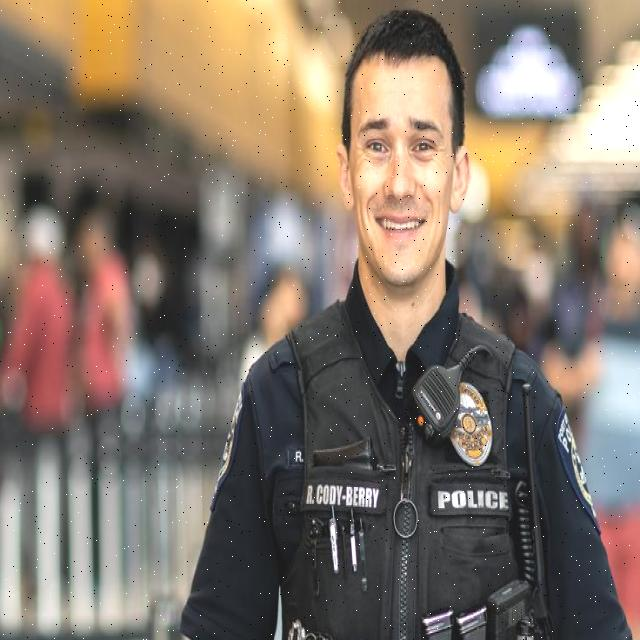police: (187, 3, 630, 640)
